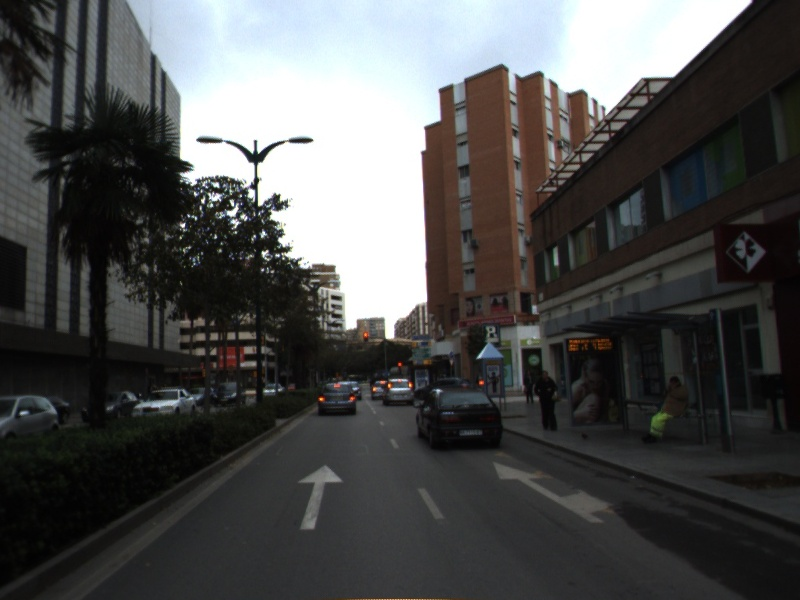STRAIGHT: (295, 463, 346, 532)
STRAIGHT_RIGHT: (490, 460, 614, 525)
